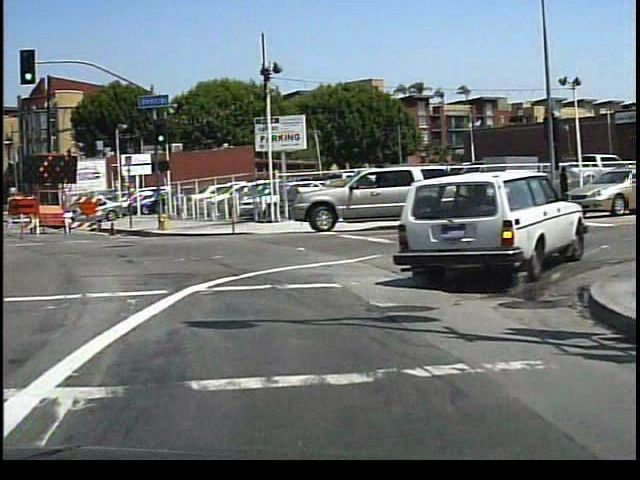person: (555, 161, 574, 204)
